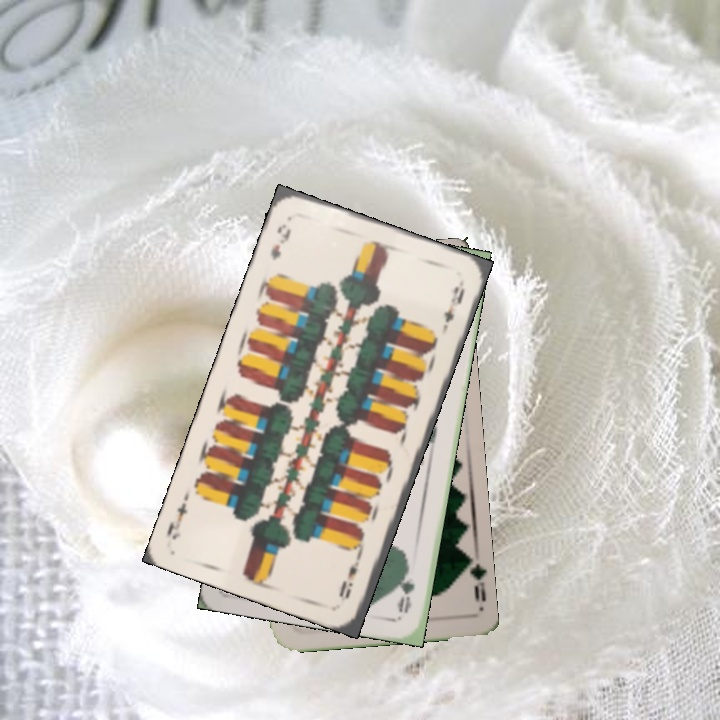E9: (335, 548, 365, 604), (266, 220, 294, 263)
G9: (459, 553, 489, 604)
GO: (393, 557, 418, 616)
